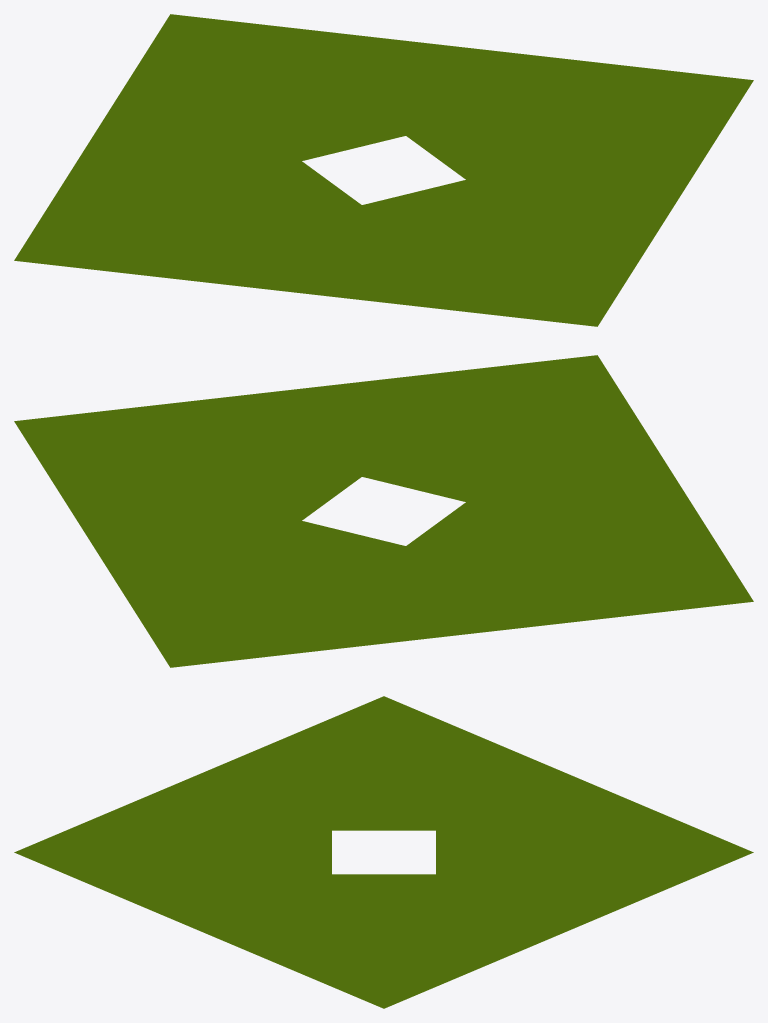
File: Green_Background.fbx
3 renders of one model, top to bottom at view 1: azimuth 30°, elevation 25°; view 2: azimuth 150°, elevation 25°; view 3: azimuth 270°, elevation 25°, orthographic. The views are drawn at different scales.
Parts seen in each view (by area): view 1: Background; view 2: Background; view 3: Background.
Boxes of the visible parts, x1=… form: Background: x1=14, y1=14, x2=753, y2=326; Background: x1=14, y1=355, x2=753, y2=667; Background: x1=14, y1=696, x2=753, y2=1008.
Size of the model in its own units: 68345 by 3.54e-08 by 68345.
